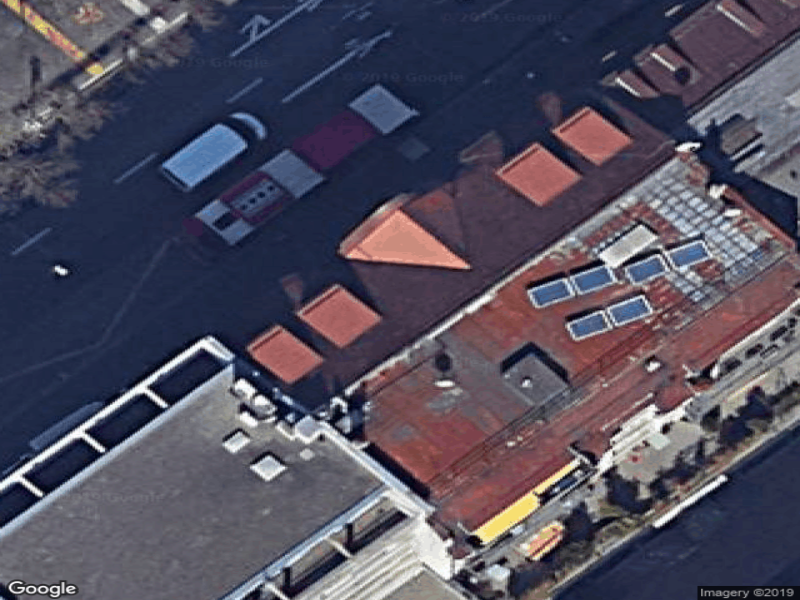pv: (569, 295, 655, 339), (528, 265, 616, 306), (629, 242, 712, 282)
